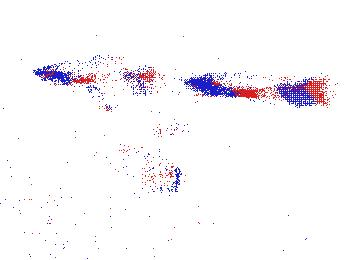X-ray fish: (96, 142, 191, 197)
red belly glassfish: (152, 121, 198, 140)
redtail glassfish: (31, 58, 154, 91), (191, 73, 316, 100)
